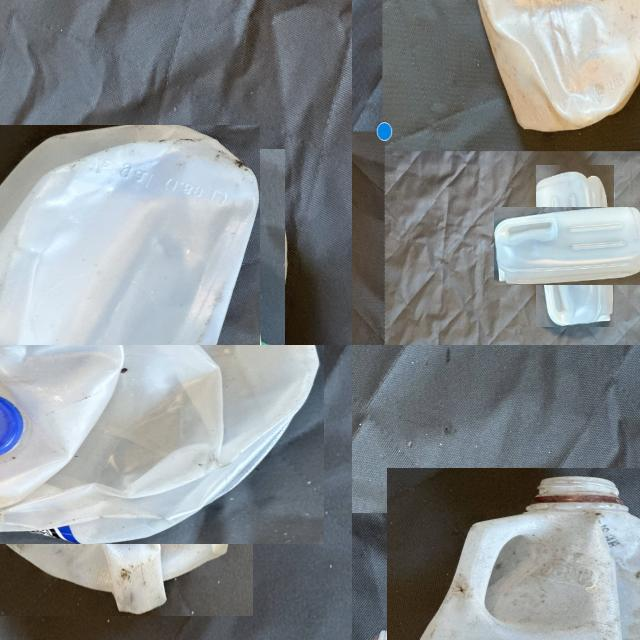milk-jug: (0, 345, 289, 580), (0, 136, 273, 345), (364, 490, 640, 640), (477, 0, 640, 133), (515, 186, 635, 306)
